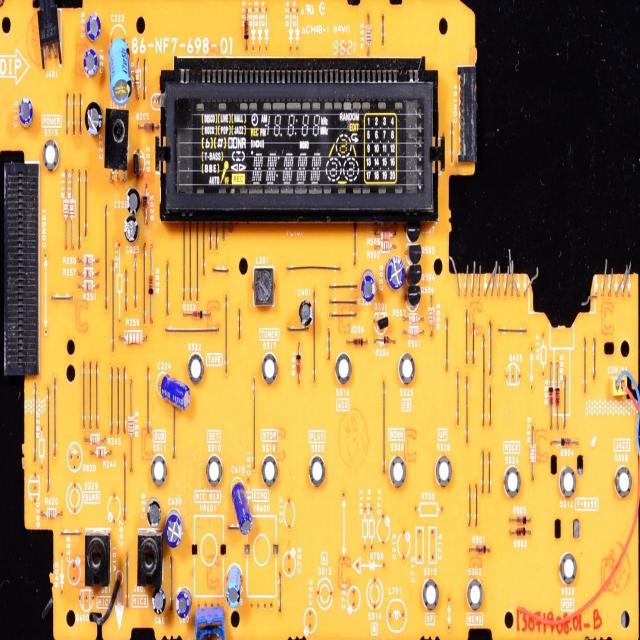Capacitor Jumper: (108, 37, 134, 104), (157, 372, 190, 416), (232, 482, 250, 534), (384, 255, 406, 291), (225, 566, 243, 609), (84, 100, 103, 137), (165, 509, 183, 546), (18, 95, 35, 132), (83, 47, 100, 79), (125, 184, 142, 216), (85, 12, 104, 40), (123, 216, 139, 247), (298, 299, 314, 329), (361, 268, 375, 301), (147, 498, 162, 528), (176, 587, 190, 619), (151, 588, 166, 616)
Resistor Jumper: (362, 24, 378, 52), (125, 328, 143, 349), (527, 440, 539, 469), (126, 413, 136, 443), (89, 428, 102, 448), (133, 66, 142, 93), (82, 252, 96, 269), (69, 192, 76, 225), (63, 191, 69, 226), (82, 267, 96, 282), (44, 507, 57, 522), (94, 445, 107, 459), (82, 279, 94, 294)
